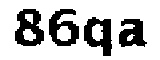6: (47, 6, 81, 51)
8: (14, 9, 44, 48)
a: (118, 16, 149, 52)
q: (83, 14, 116, 60)
